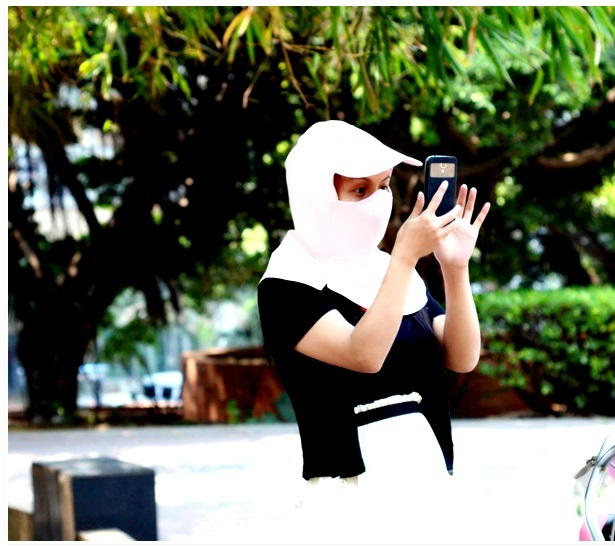face_mask: (324, 162, 393, 246)
